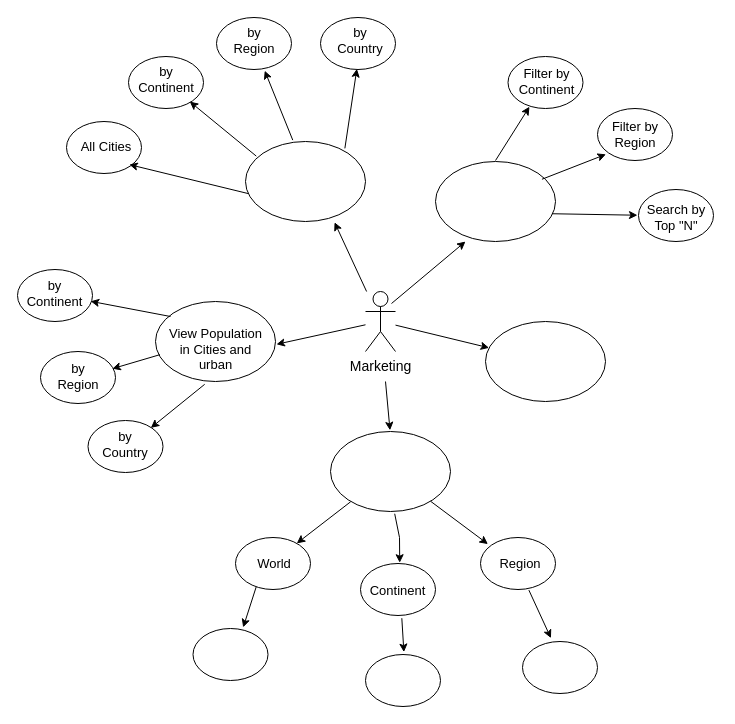
This 735x724 diagram has some shape labels left out. The shapes that lost their labels are listed below. From the top down, each one's box as (x1, y1, x2, y2) in pixels, then its label:
(244, 140, 366, 222): View Cities by Population
(434, 160, 556, 242): View Countries by Population
(484, 320, 606, 402): View Global Language Stats
(330, 430, 450, 512): Search Population by Selected Area
(192, 628, 268, 680): Country
(522, 640, 598, 694): City
(364, 654, 440, 706): District
